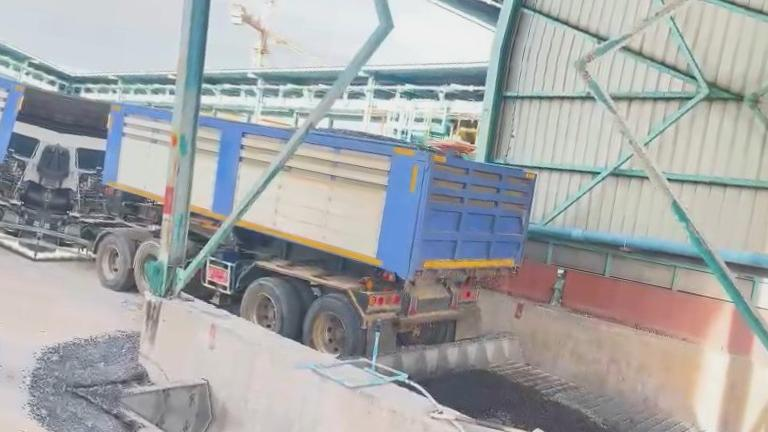gravel: (26, 331, 147, 398)
